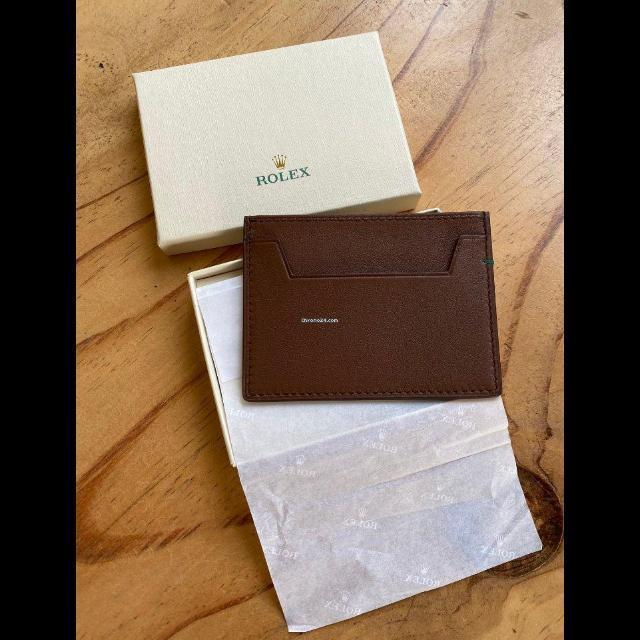wallet: (242, 210, 500, 400)
